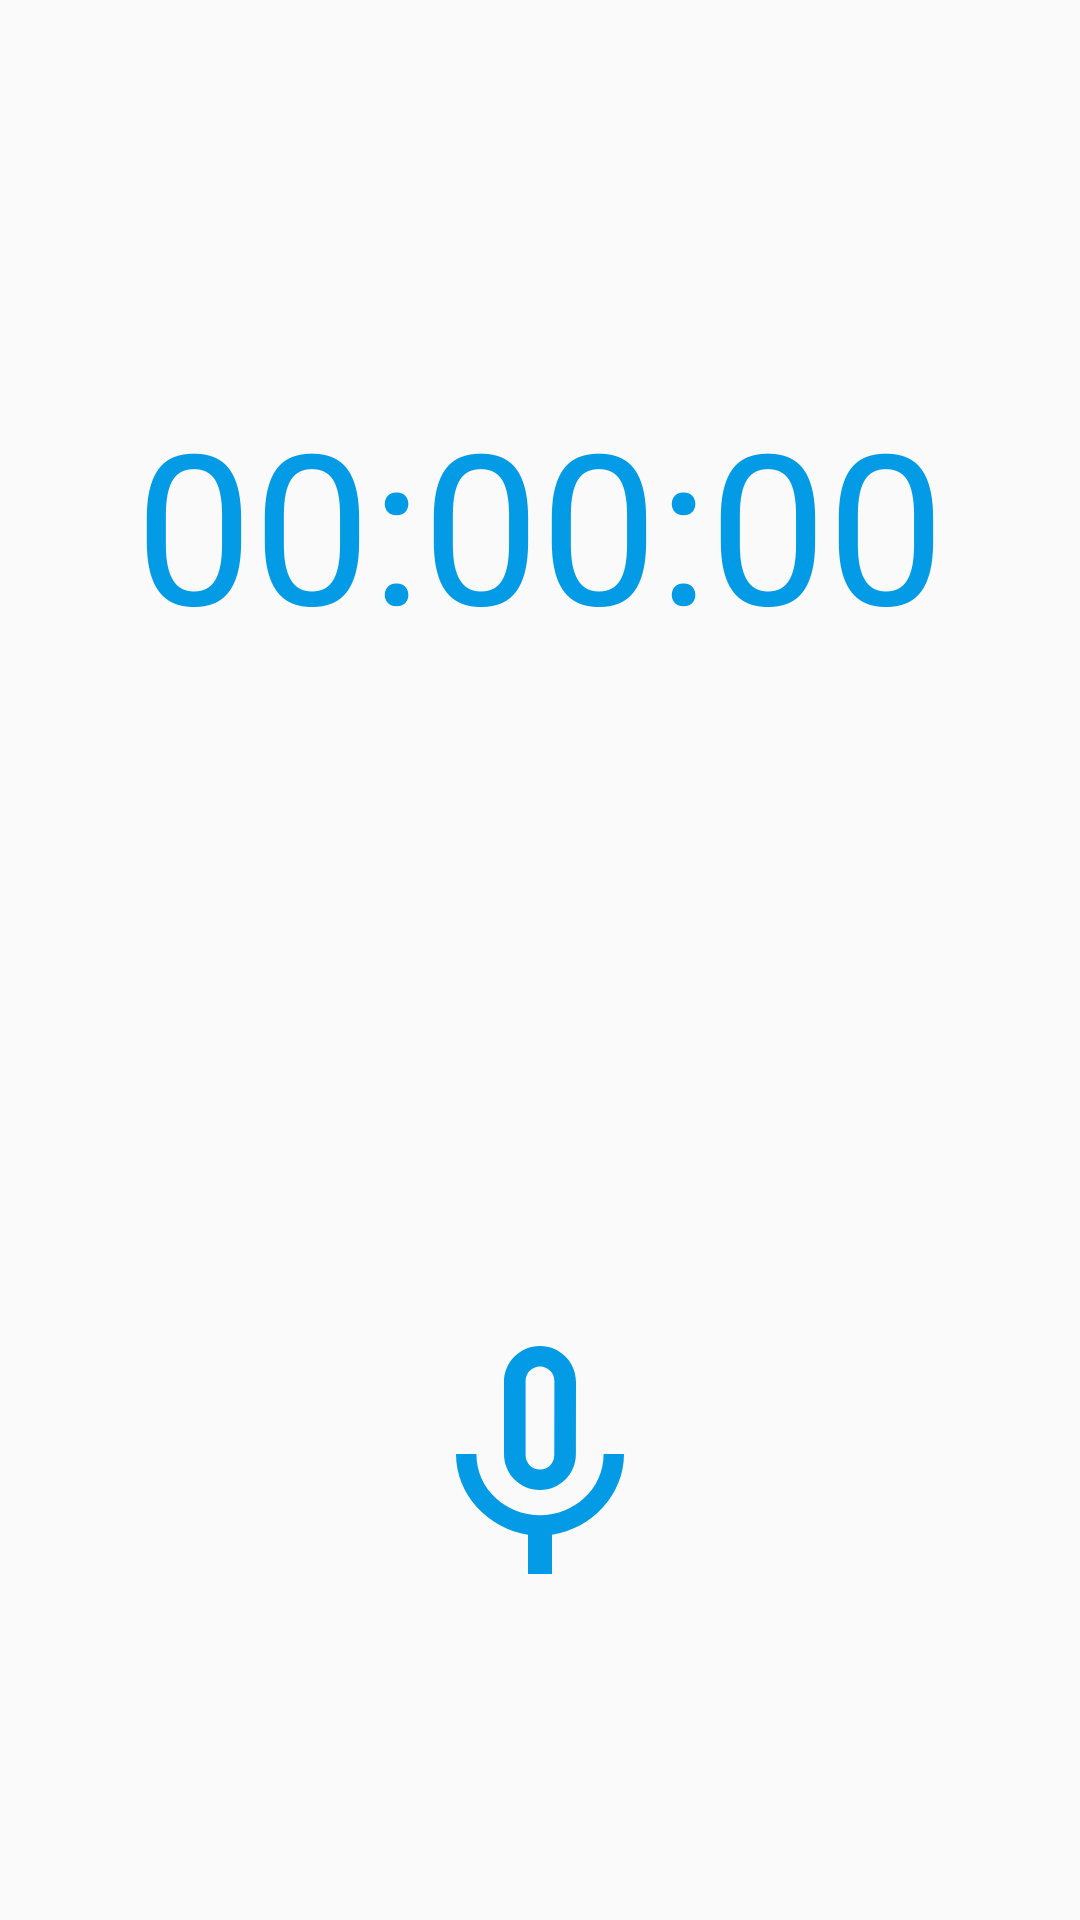

Where icons sit on this 1080x1920 app screen, as bbox(x1, y1, x2, y2):
mic none: bbox(456, 1346, 624, 1574)
